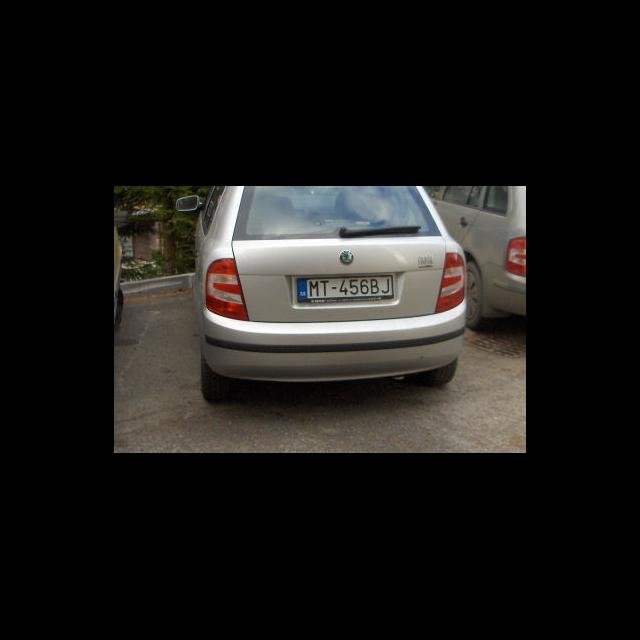Plate: (295, 274, 395, 302)
